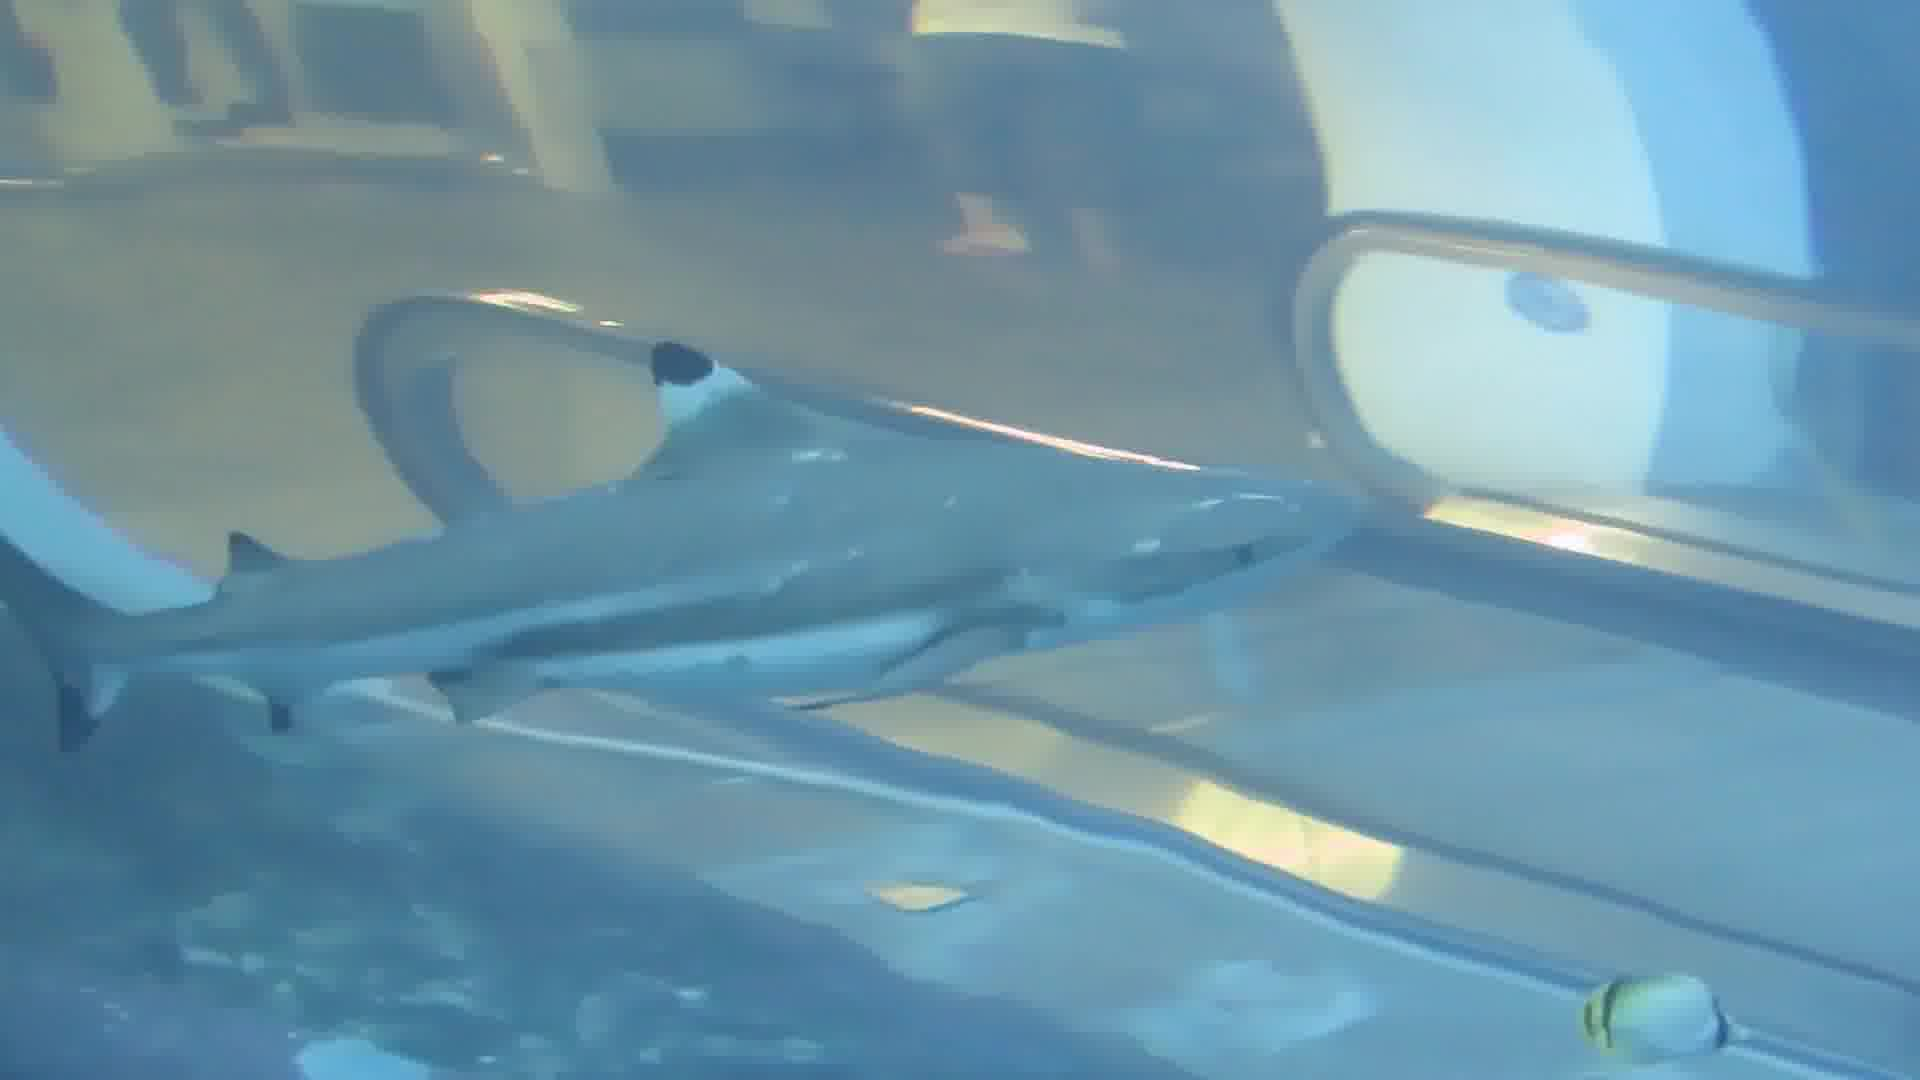Carcharhinus melanopterus: (1, 335, 1382, 756)
